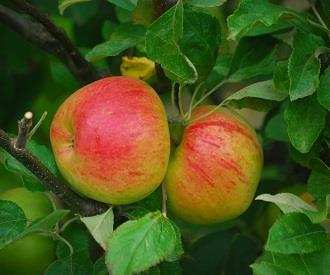apple: (46, 75, 169, 204), (161, 106, 263, 220)
